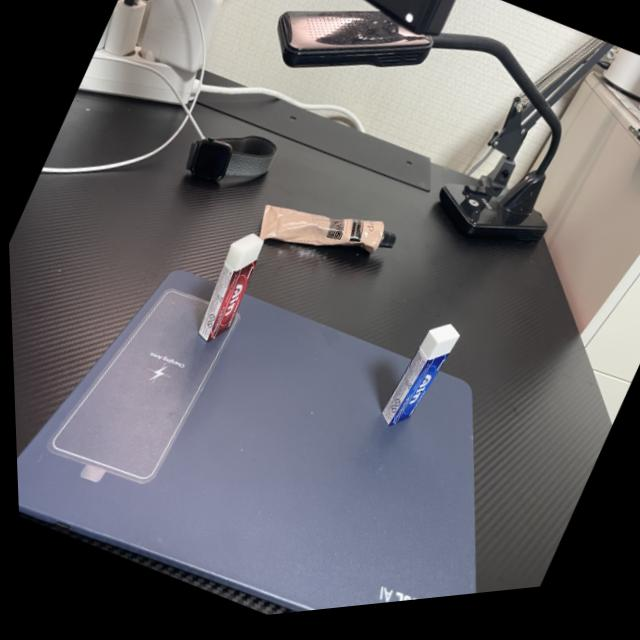blue: (356, 303, 482, 465)
red: (171, 211, 292, 368)
